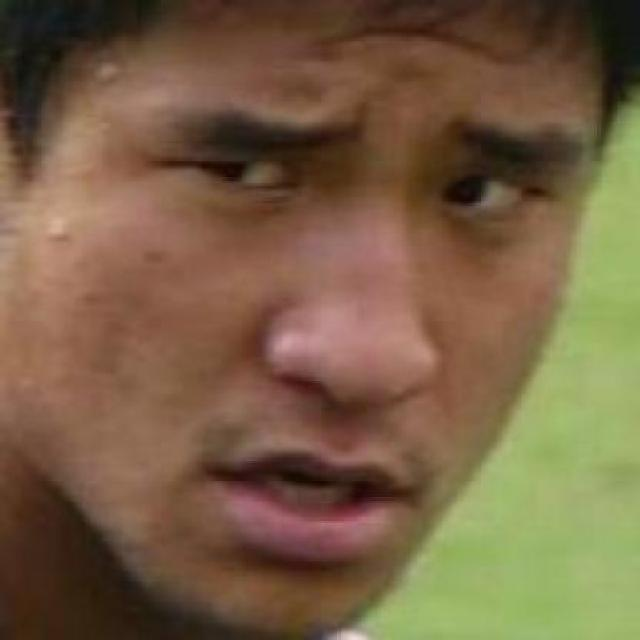angry: (71, 44, 552, 625)
